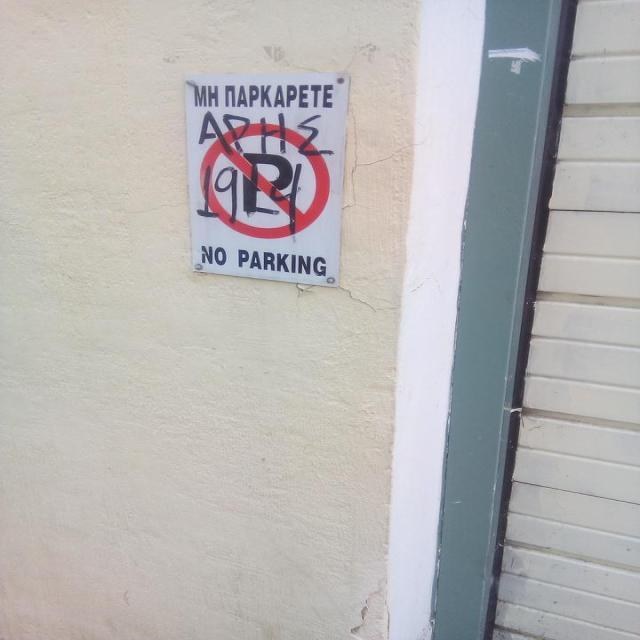nonspitting: (198, 162, 302, 235), (196, 112, 333, 155)
